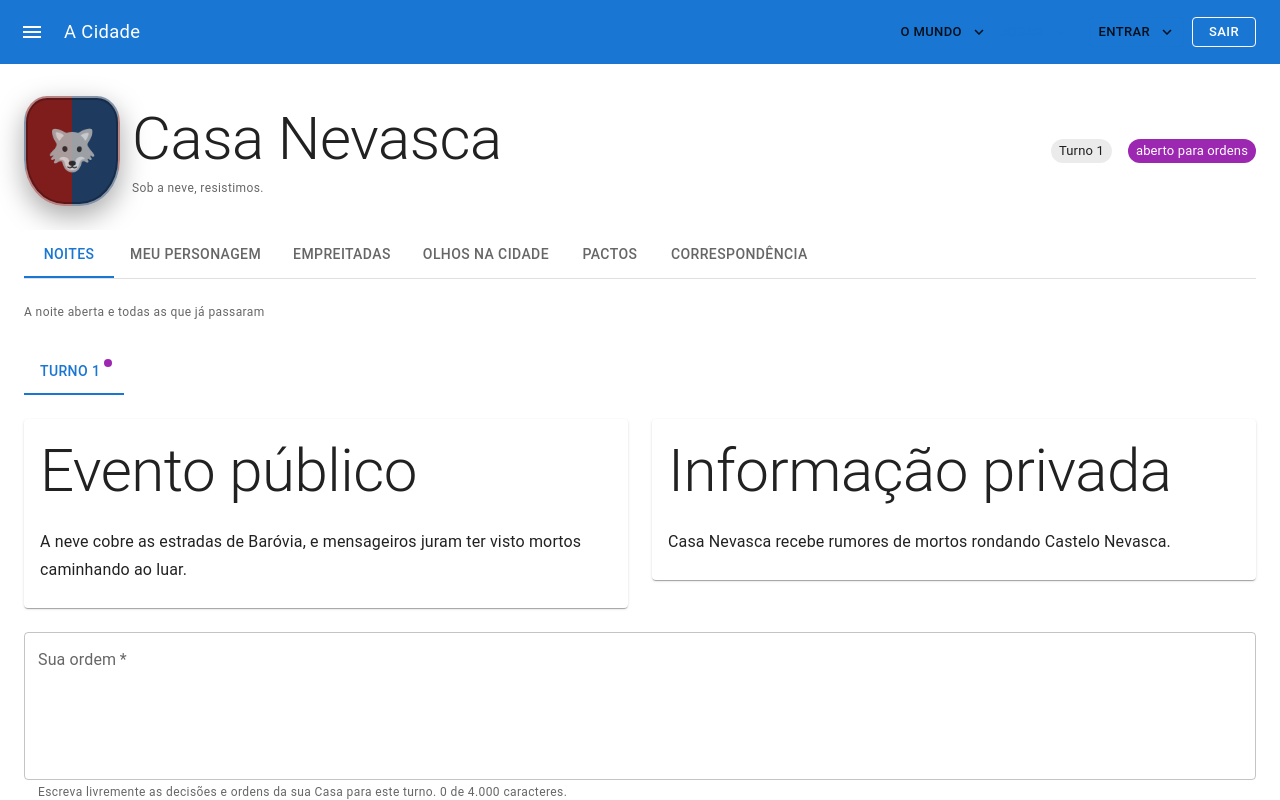
Test: GamePage › sem ativos, explica de onde eles vêm em vez de mostrar seção vazia
Step 1. Click the tab "Meu personagem" → {"x": 196, "y": 254}, box [114,230,277,278]
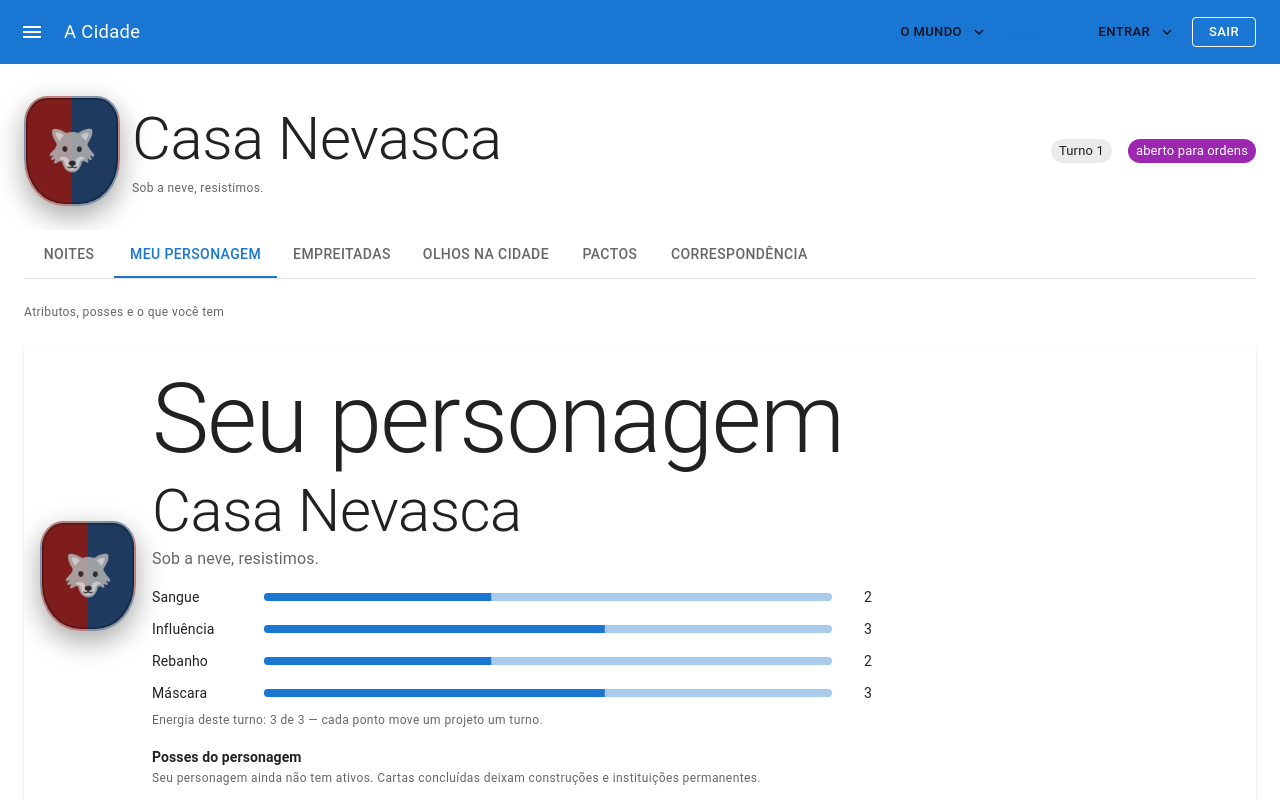
Expected: the text "Seu personagem ainda não tem ativos" is shown, [152,771,761,785]
